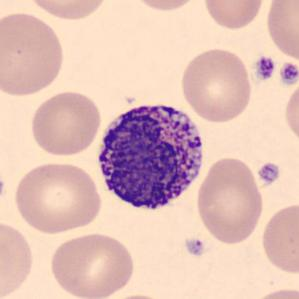Basophil: (92, 93, 209, 218)
Platelets: (252, 54, 277, 82), (256, 161, 280, 186), (278, 61, 298, 87), (184, 236, 206, 258), (0, 176, 7, 204)
RBC: (11, 159, 104, 236), (193, 154, 266, 246), (47, 229, 137, 299), (0, 8, 68, 100), (178, 45, 254, 125), (27, 88, 103, 158), (259, 200, 299, 276), (0, 217, 36, 299), (264, 1, 298, 63), (201, 0, 267, 31), (23, 0, 111, 22), (282, 80, 299, 147), (126, 0, 202, 13), (249, 285, 299, 299), (101, 292, 175, 299)
